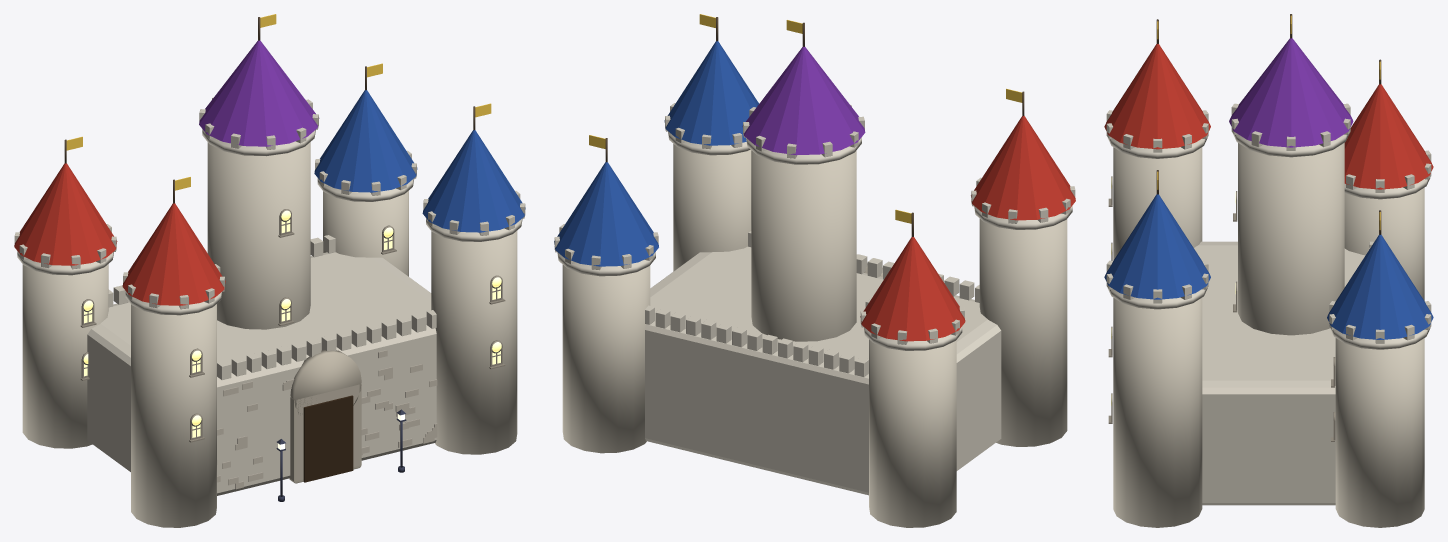
The model's file is hrad-scena.glb.
3 views of the same model, side by side, from view 1: azimuth 30°, elevation 25°; view 2: azimuth 150°, elevation 25°; view 3: azimuth 270°, elevation 25° (orthographic). The views are drawn at different scales.
Parts seen in each view (by area): view 1: hrad-scena; view 2: hrad-scena; view 3: hrad-scena.
Part boxes in pixels (left/top/right/bottom): hrad-scena: left=14, top=14, right=525, bottom=527; hrad-scena: left=554, top=14, right=1075, bottom=527; hrad-scena: left=1104, top=14, right=1433, bottom=527.
Bounding box in the file's own units: 20.8 × 20.8 × 14.8.
Materials: 3 (3 with a texture image).
